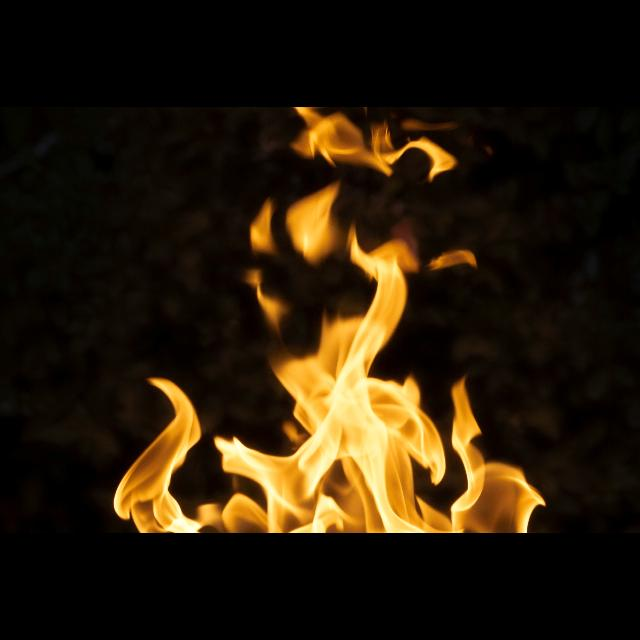fire: (112, 229, 542, 534), (292, 107, 455, 179)
